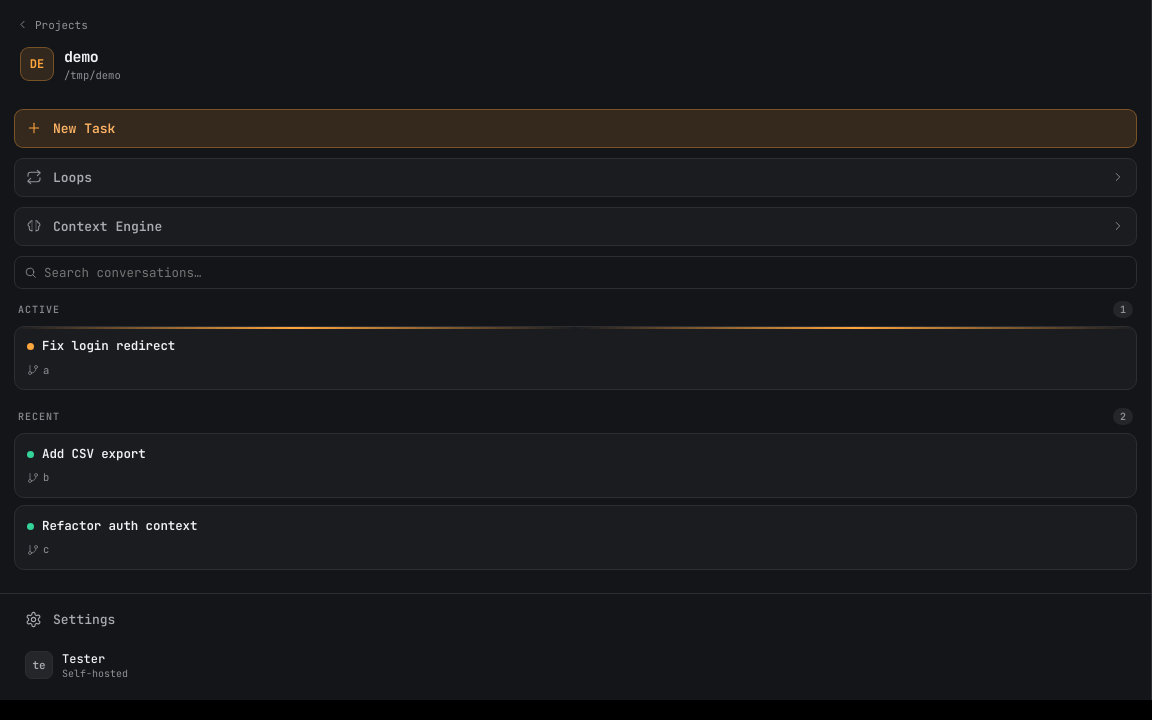
Test case: AgentsSidebar — conversation search (#116) › keeps a match across the running/finished split
In the field labelled "Search conversations": [586, 272] box [44,264,1127,280], type "fix"
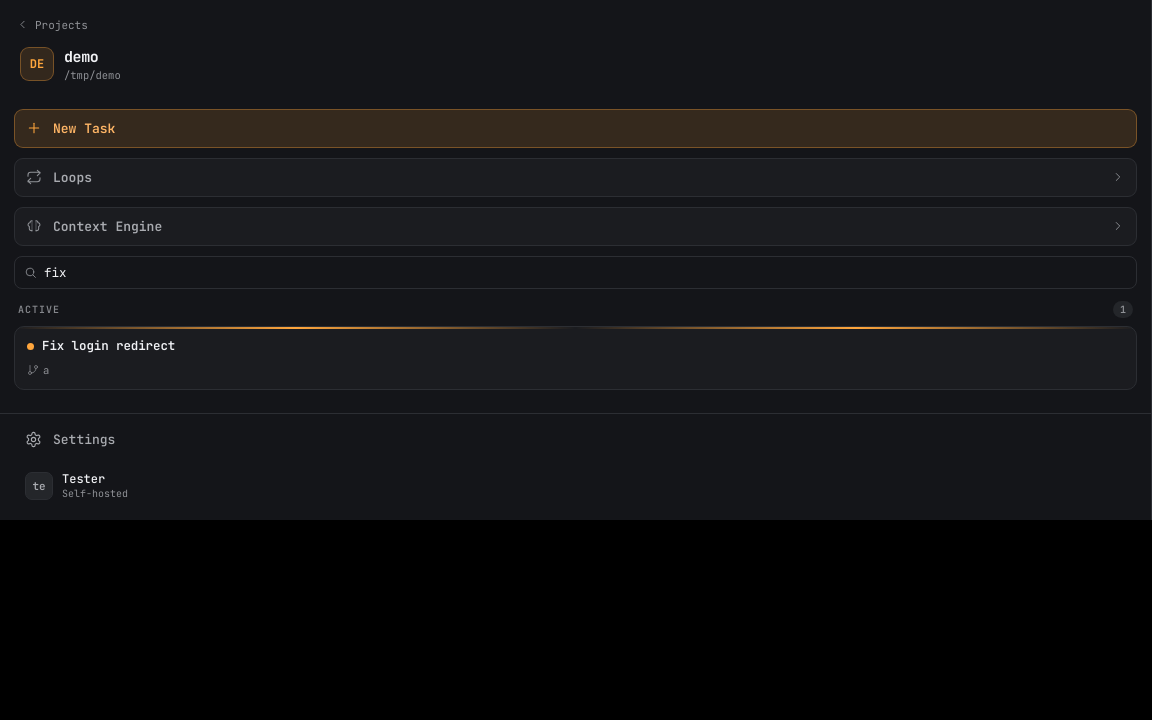
Expected: the text "Fix login redirect" is shown, [42,337,175,354]
Expected: the button "Refactor auth context" is gone
